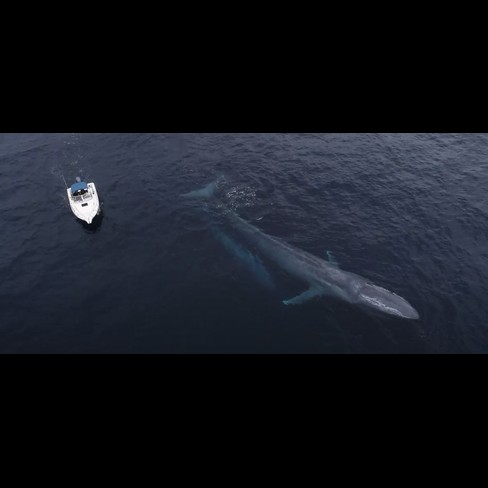bluewhale: (185, 175, 425, 331), (191, 206, 281, 296)
boat: (61, 178, 103, 226)
